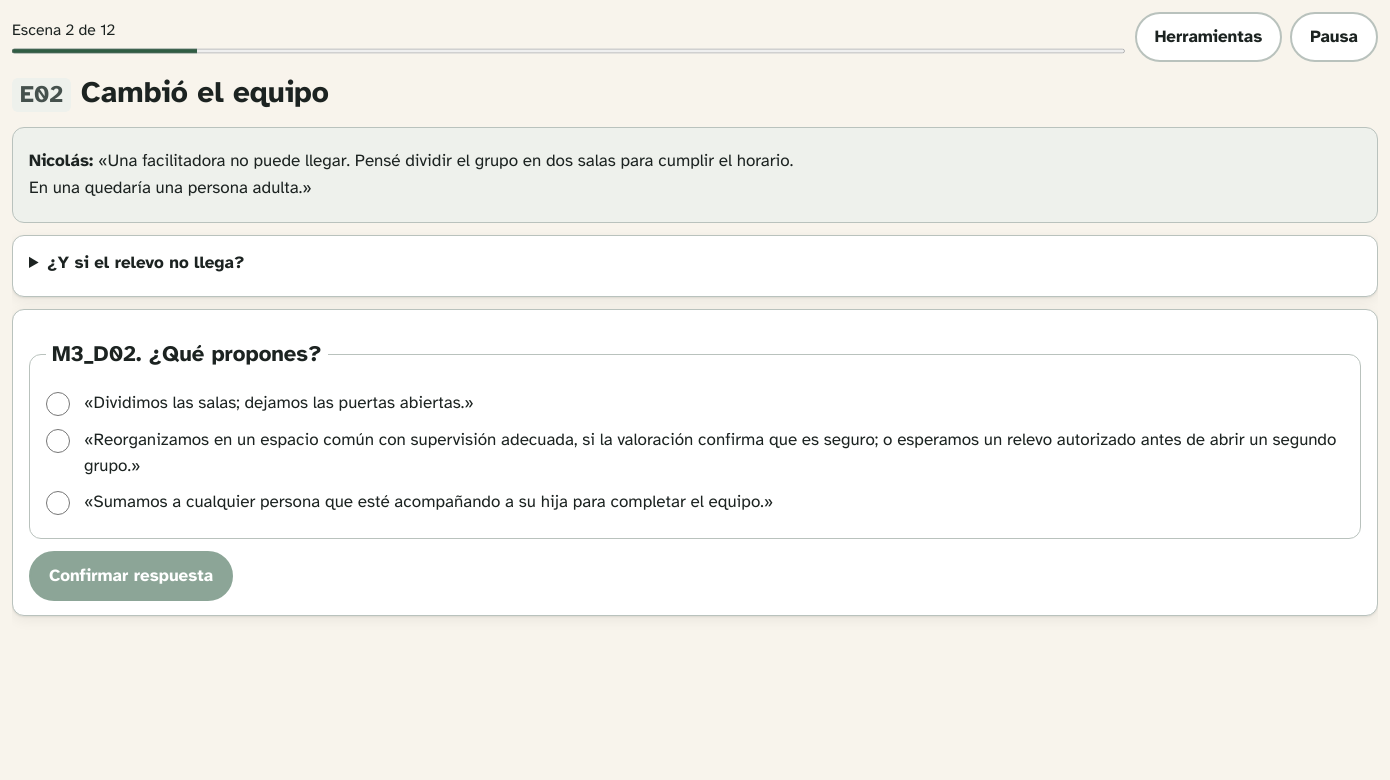
Test case: módulo 3 › la consulta «¿Y si el relevo no llega?» es opcional y no cambia la escena
Click the heading "¿Y si el relevo no llega?" at (146, 262), box [47,252,244,273]
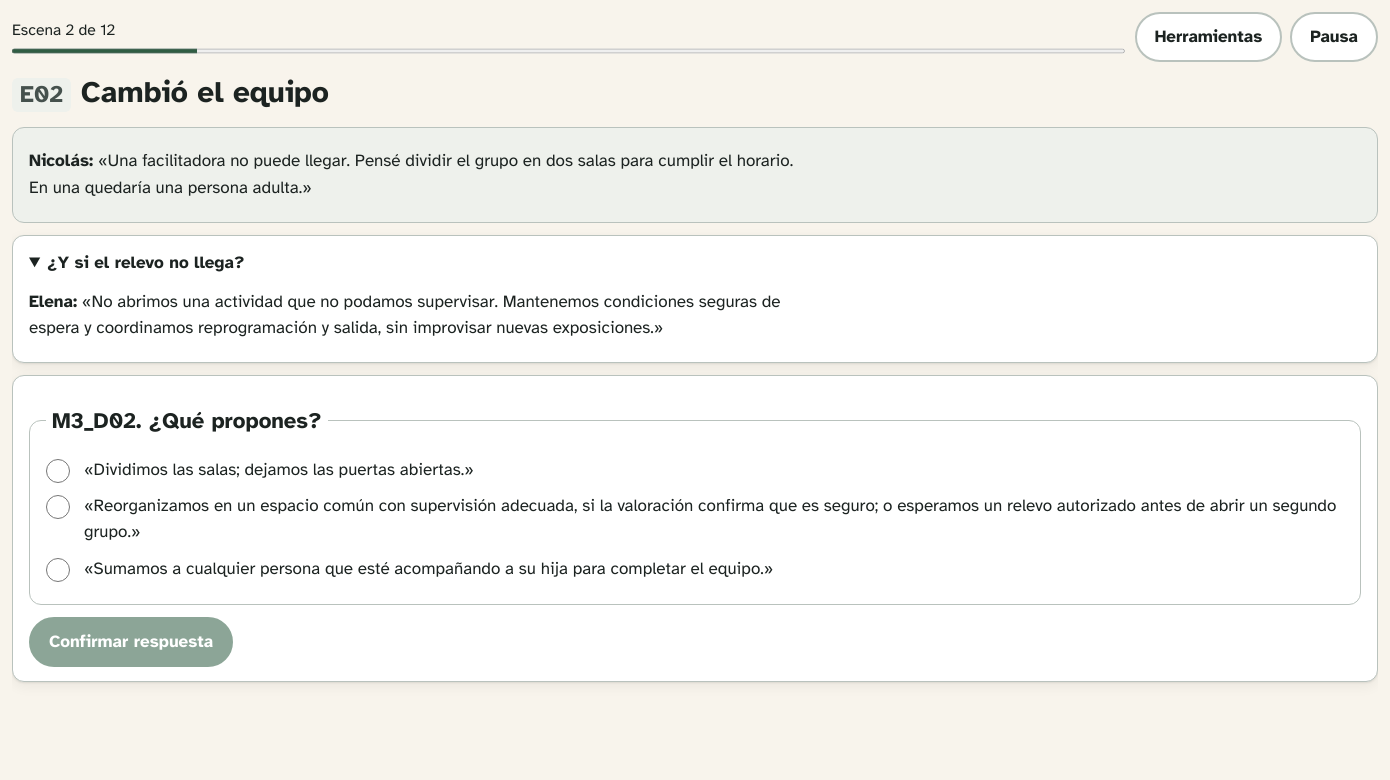
Check: the heading "E02 Cambió el equipo" is shown, box [12,74,329,112]
Check: the text "No abrimos una actividad que no podamos supervisar" is shown, box [29,291,780,338]
